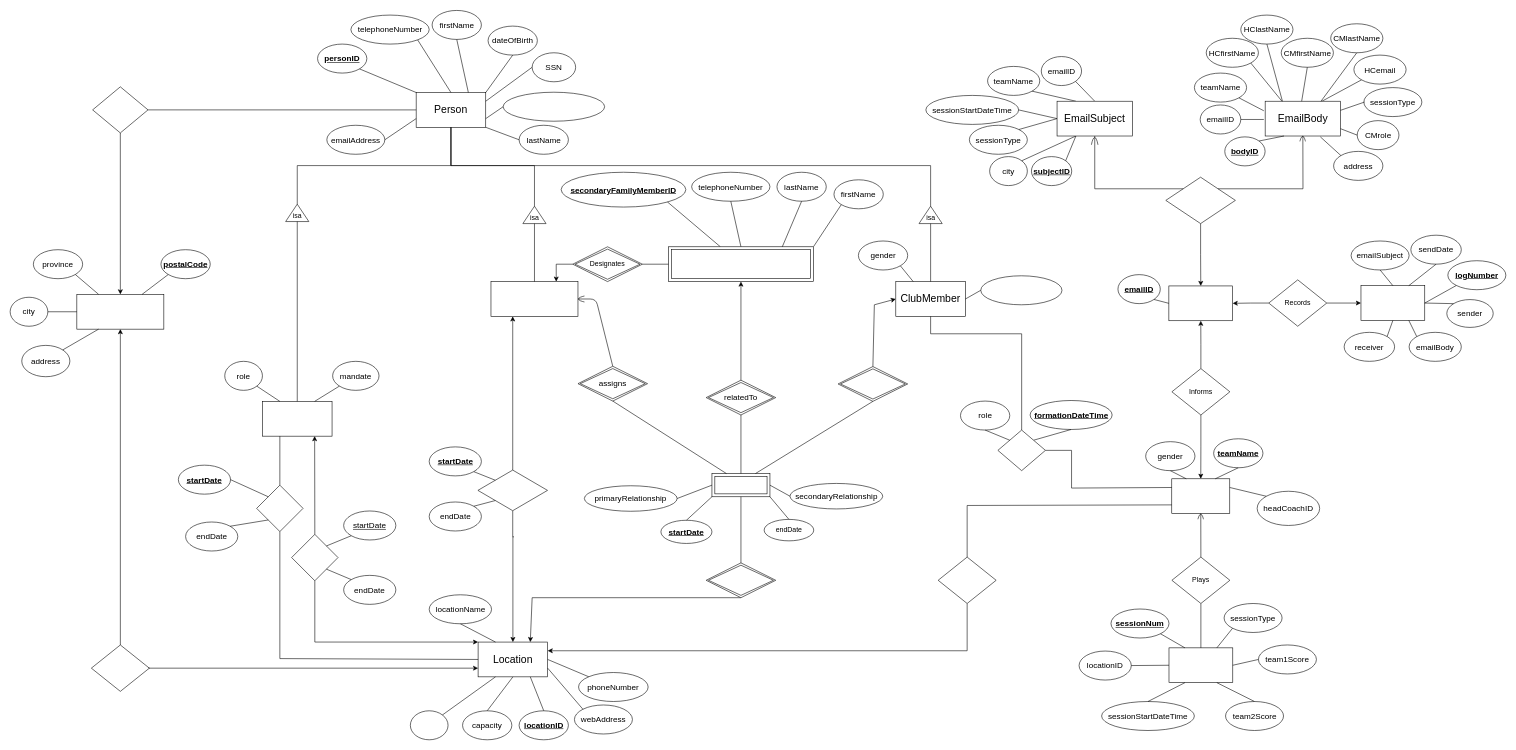
Some shapes in this 1516 by 750 pixel diagram are drawn without their labels. The centre of each missing label's shape, as x and y in pixels:
Apart_Of: the point at 1021,450
Assignment: the point at 740,485
assignsTo: the point at 741,580
clubMembershipID: the point at 1021,290
Contains: the point at 1200,200
Email: the point at 1200,303
EmailLog: the point at 1392,302
FamilyMember: the point at 534,298
Formed_At: the point at 967,580
Found_At: the point at 120,667
getAssigned: the point at 873,383
Lives_At: the point at 120,109
LocationDetails: the point at 120,311
Manages: the point at 314,557
medicareCardNumber: the point at 554,106
Operates: the point at 279,508
Personnel: the point at 297,418
Registered_At: the point at 512,490
SecondaryFamilyMember: the point at 740,264
Sessions: the point at 1200,665
Team: the point at 1200,496
type: the point at 429,725
